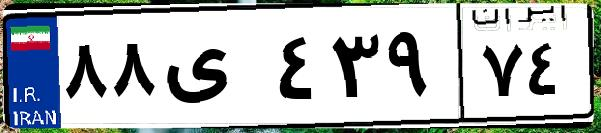3: (330, 28, 385, 110)
4: (270, 28, 330, 110), (525, 38, 570, 115)
7: (475, 38, 525, 113)
8: (57, 26, 110, 100), (110, 28, 158, 98)
9: (385, 28, 445, 110)
ی: (158, 20, 270, 120)
